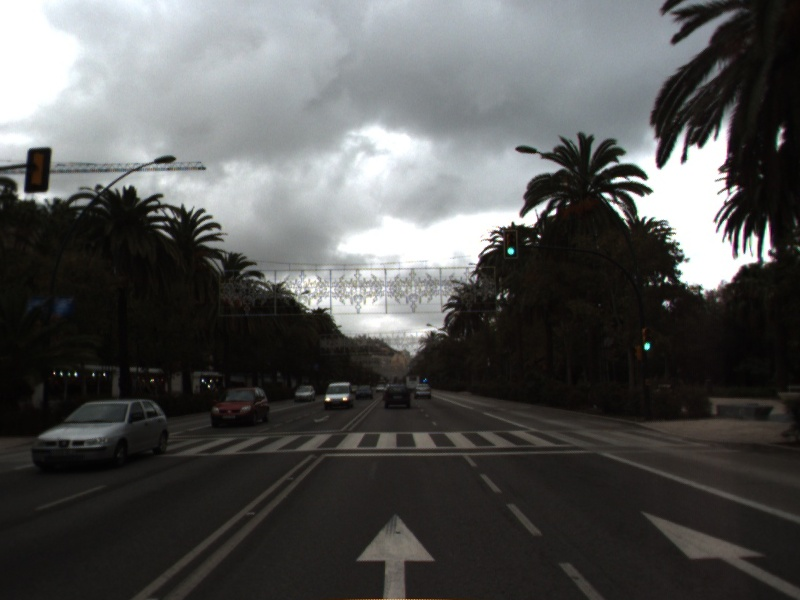STRAIGHT: (637, 508, 800, 598), (352, 509, 440, 600)
